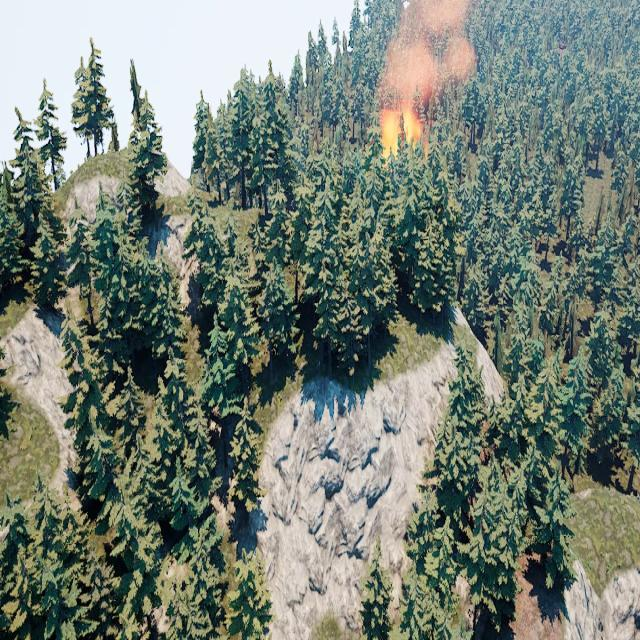fire: (382, 102, 429, 157)
smoke: (378, 0, 479, 103)
